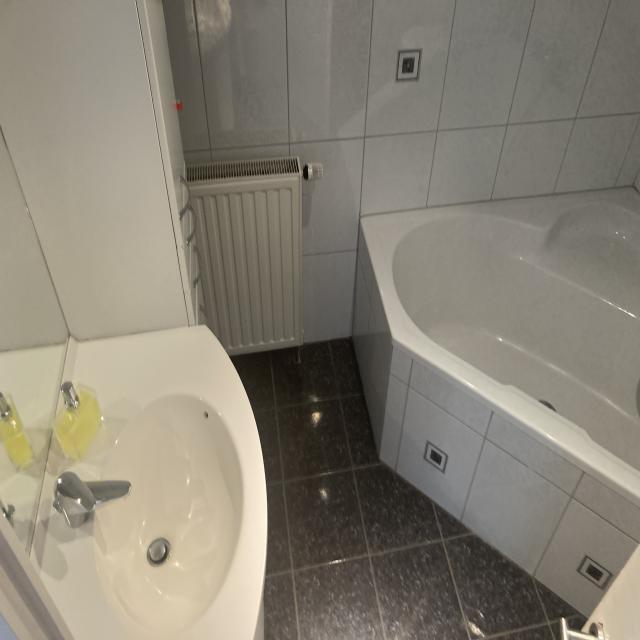bath: (352, 184, 640, 619)
wastafel: (29, 324, 268, 640)
